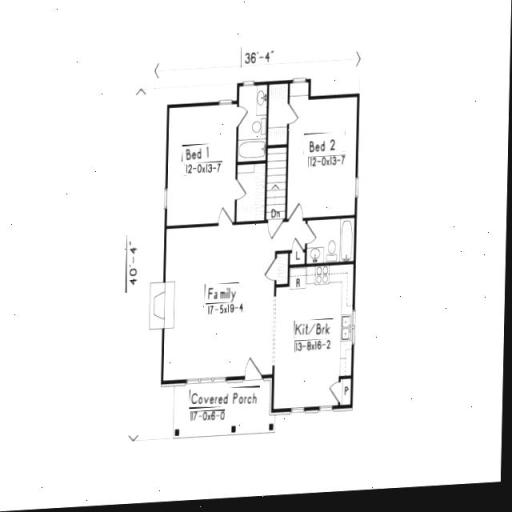bedroom: (164, 110, 242, 226), (293, 97, 364, 222)
hall: (173, 230, 273, 388)
kitchen: (281, 270, 347, 408)
porch: (170, 384, 273, 438)
